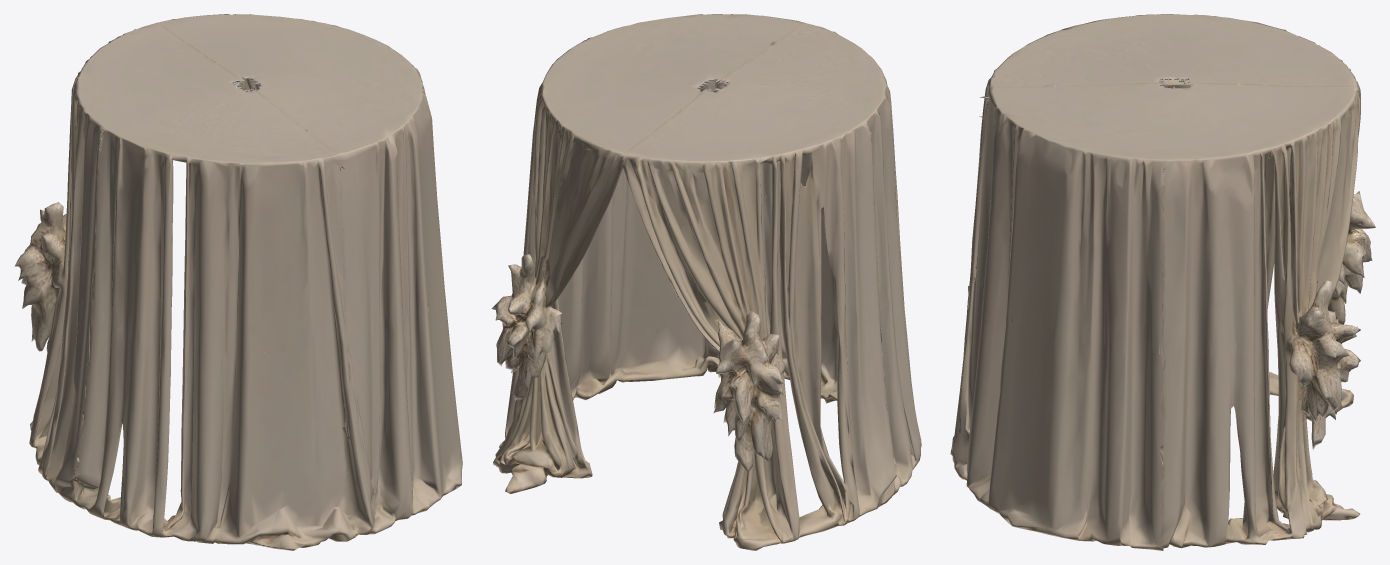
File: chuppah-round-beige.glb
3 views of the same model, side by side, from view 1: azimuth 30°, elevation 25°; view 2: azimuth 150°, elevation 25°; view 3: azimuth 270°, elevation 25° (orthographic).
Parts seen in each view (by area): view 1: tripo_node_7e47713c-4d22-4081-b7f1-b61cfe701d05; view 2: tripo_node_7e47713c-4d22-4081-b7f1-b61cfe701d05; view 3: tripo_node_7e47713c-4d22-4081-b7f1-b61cfe701d05.
Part boxes in pixels (x1=…): tripo_node_7e47713c-4d22-4081-b7f1-b61cfe701d05: x1=14, y1=14, x2=462, y2=550; tripo_node_7e47713c-4d22-4081-b7f1-b61cfe701d05: x1=491, y1=14, x2=921, y2=550; tripo_node_7e47713c-4d22-4081-b7f1-b61cfe701d05: x1=950, y1=14, x2=1375, y2=550.
Size of the model in its own units: 2.69 by 2.65 by 2.69.
1 material, 1 textured.
